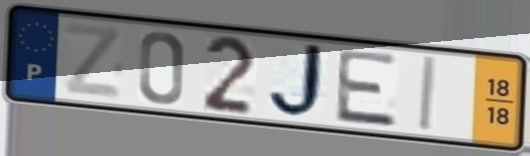0: (136, 29, 187, 107)
2: (202, 33, 260, 118)
E: (332, 47, 401, 131)
I: (415, 54, 441, 136)
J: (266, 41, 333, 122)
Z: (60, 20, 125, 103)
